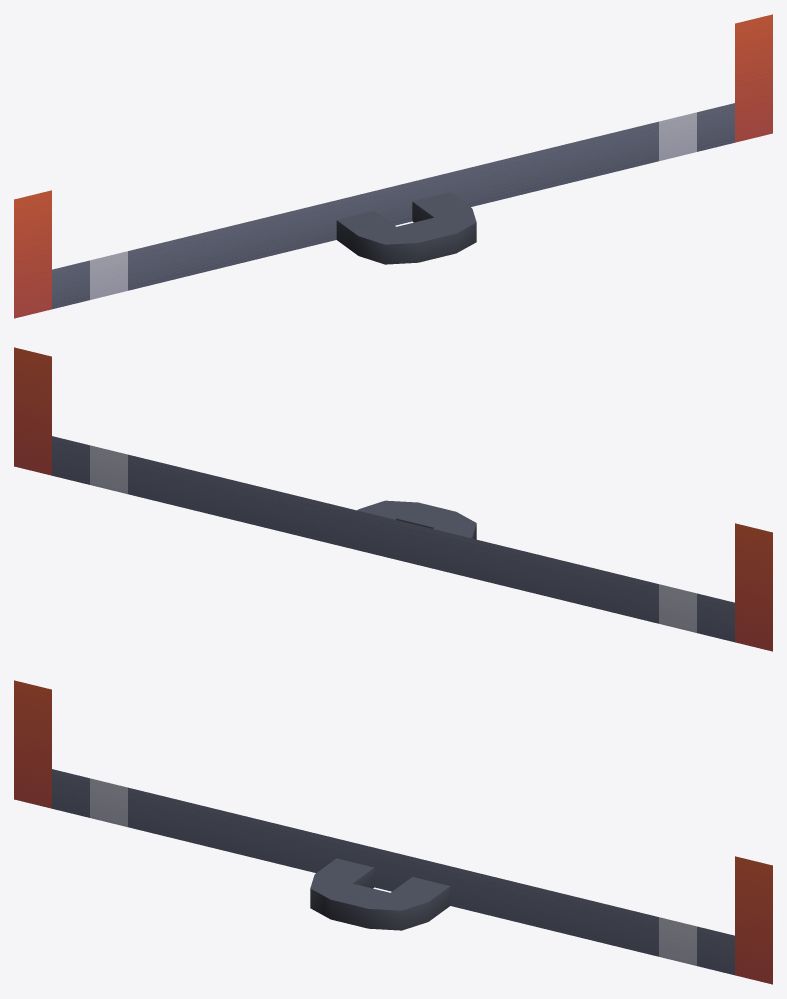
File: track-road-wide-cap-back.glb
3 views of the same model, one above another, from view 1: azimuth 30°, elevation 25°; view 2: azimuth 150°, elevation 25°; view 3: azimuth 330°, elevation 25° (orthographic).
Parts seen in each view (by area): view 1: track-road-wide-cap-back; view 2: track-road-wide-cap-back; view 3: track-road-wide-cap-back.
Boxes of the visible parts, x1,y1,x2,y2 form: track-road-wide-cap-back: (14,14,772,318); track-road-wide-cap-back: (14,347,772,651); track-road-wide-cap-back: (14,680,772,984).
Bounding box in the file's own units: 2 × 0.3 × 0.2.
1 material, 1 textured.
